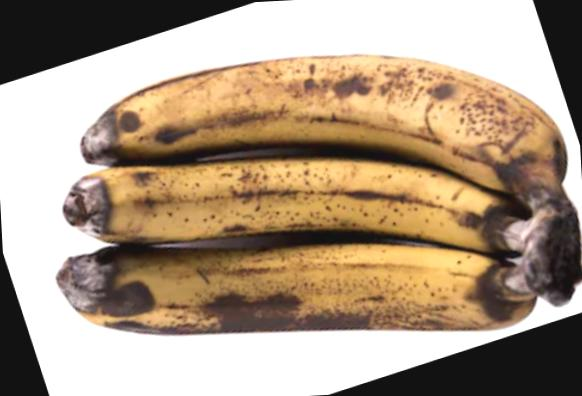Banana Overripe: (33, 34, 582, 377)
